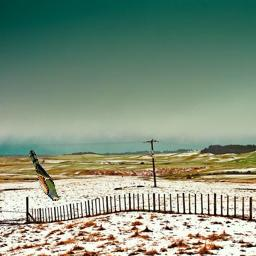Cuckoo: (29, 150, 62, 201)
